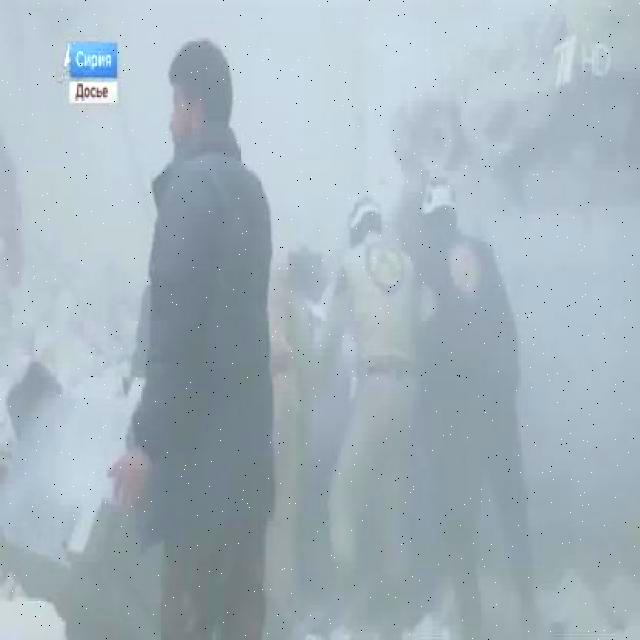Helmet: (344, 192, 386, 232), (420, 174, 458, 217)
